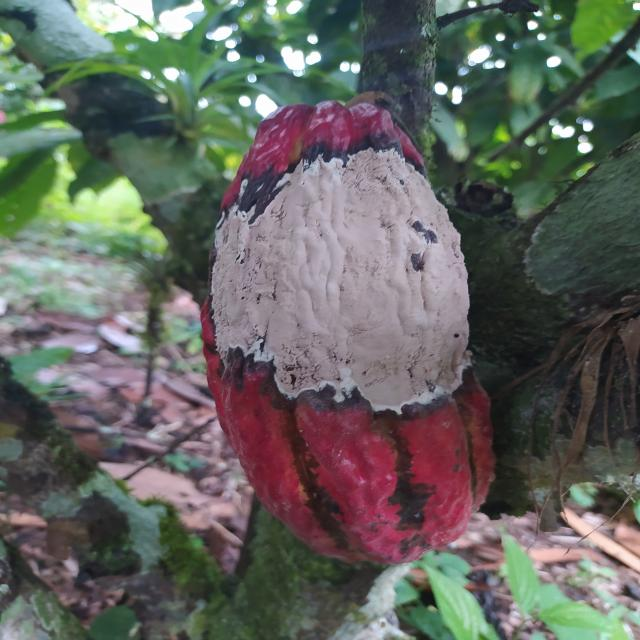Monilia: (198, 102, 496, 566)
